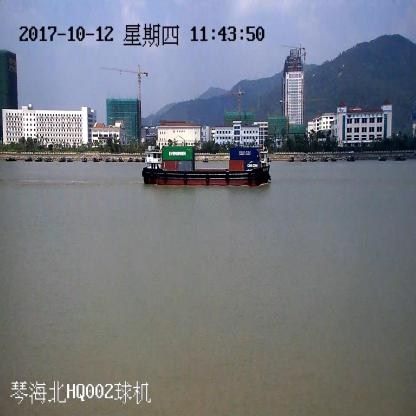Container Ship: (143, 144, 271, 185)
